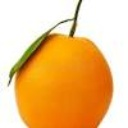orange: (10, 24, 115, 128)
